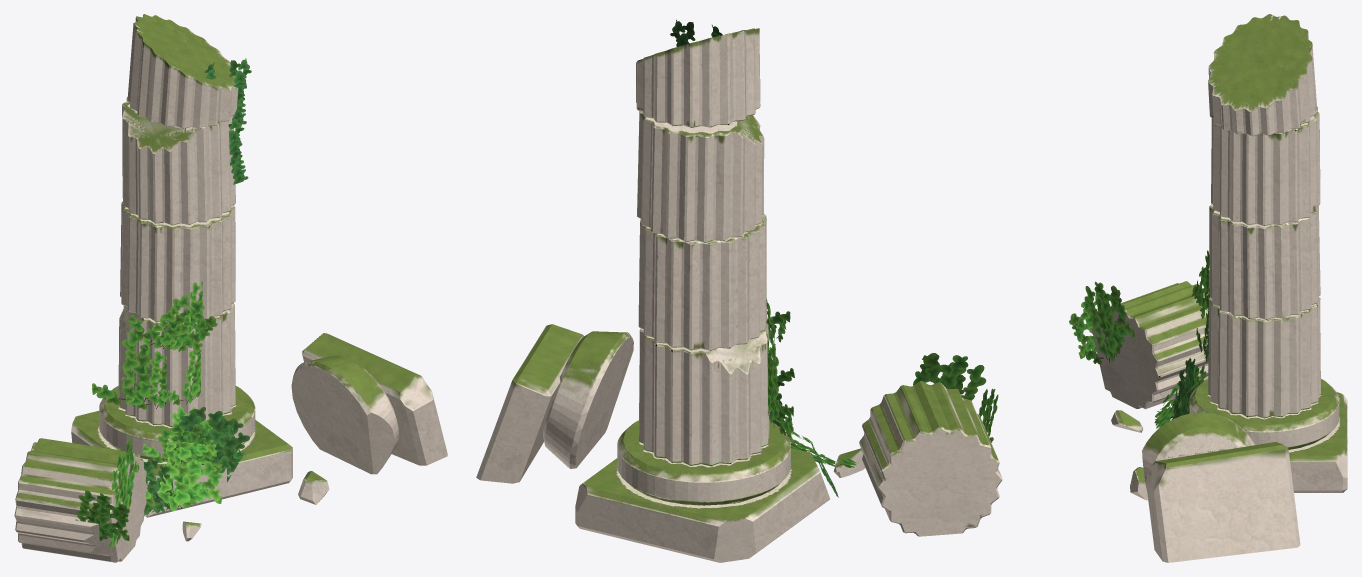
The model's file is saeule.glb.
3 views of the same model, side by side, from view 1: azimuth 30°, elevation 25°; view 2: azimuth 150°, elevation 25°; view 3: azimuth 270°, elevation 25° (orthographic). The views are drawn at different scales.
Parts seen in each view (by area): view 1: saeule; view 2: saeule; view 3: saeule.
Part boxes in pixels (x1,y1,x2,y2): saeule: (14, 14, 447, 562); saeule: (476, 19, 1002, 562); saeule: (1069, 14, 1347, 562).
Bounding box in the file's own units: 4.21 × 4.14 × 2.52.
2 materials, 2 textured.
